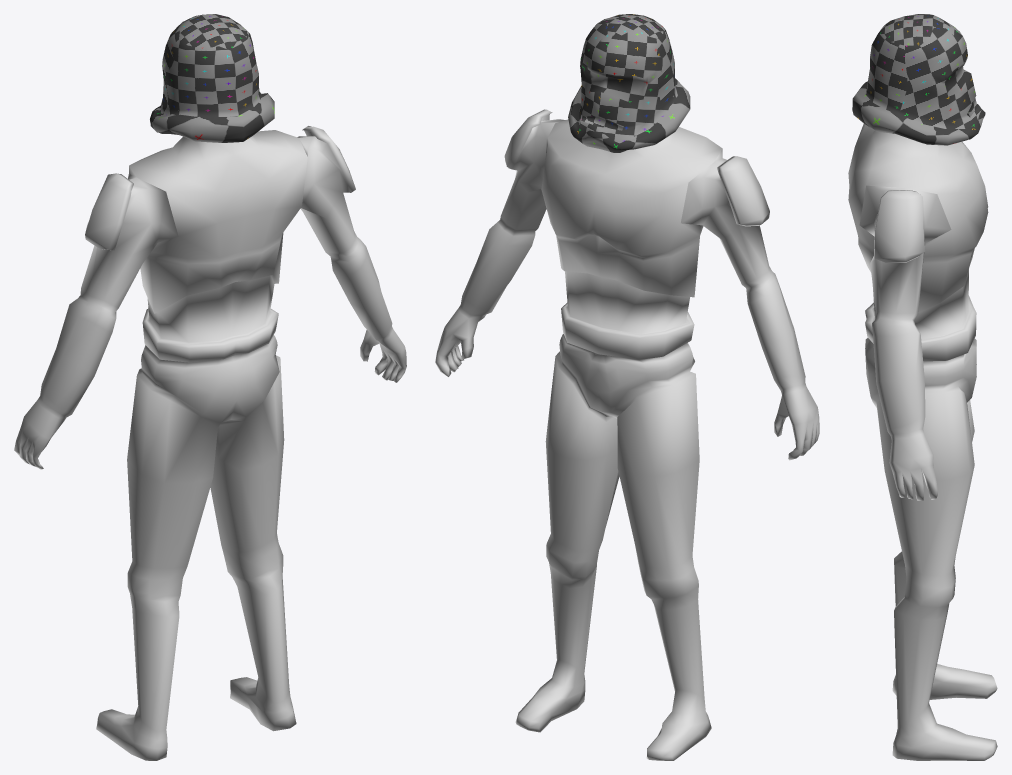
File: trooper.glb
3 views of the same model, side by side, from view 1: azimuth 30°, elevation 25°; view 2: azimuth 150°, elevation 25°; view 3: azimuth 270°, elevation 25° (orthographic). The views are drawn at different scales.
Visible parts, largest first — view 1: Cube, Helmet; view 2: Cube, Helmet; view 3: Cube, Helmet.
Boxes of the visible parts, left/top/right/bottom form: Cube: left=14, top=126, right=406, bottom=760; Helmet: left=150, top=14, right=274, bottom=142; Cube: left=435, top=109, right=819, bottom=760; Helmet: left=568, top=14, right=690, bottom=152; Cube: left=848, top=123, right=997, bottom=760; Helmet: left=852, top=14, right=985, bottom=145.
Bounding box in the file's own units: 0.5995 × 1.09 × 0.2089.
2 materials, 1 textured.
